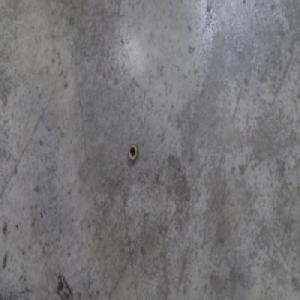Nut: (127, 141, 139, 162)
